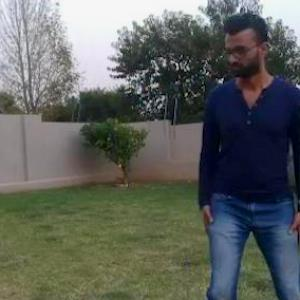follow: (184, 0, 300, 299)
